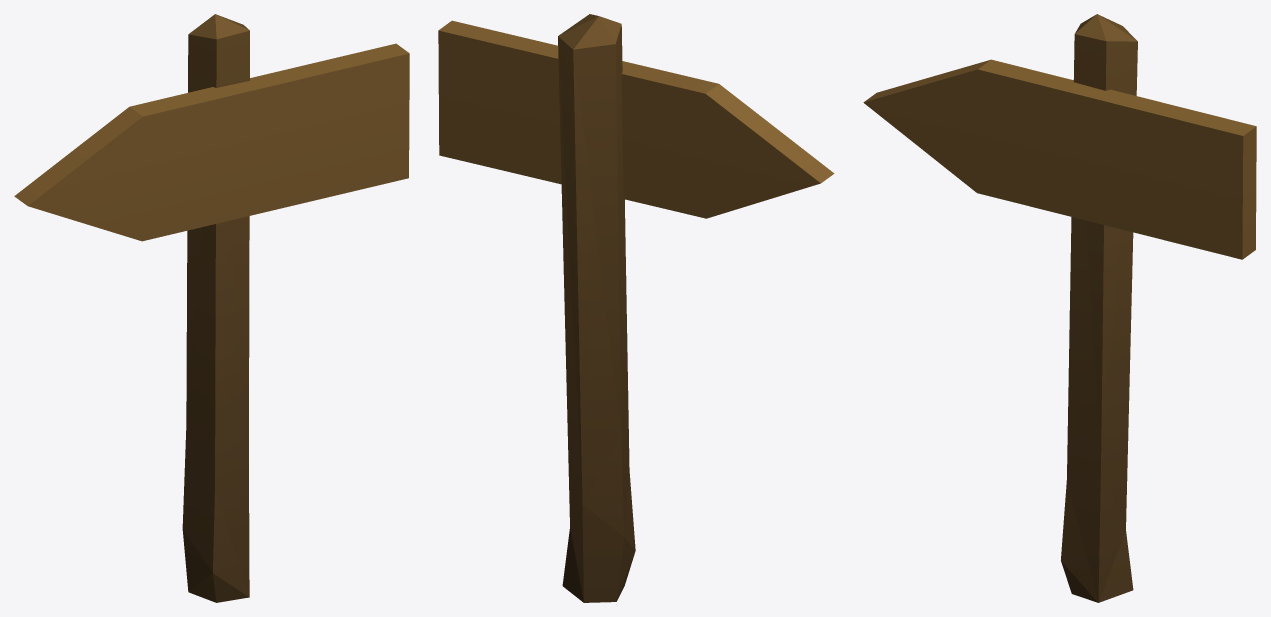
Rendered from Pointer_04.fbx.
3 renders of one model, left to right at view 1: azimuth 30°, elevation 25°; view 2: azimuth 150°, elevation 25°; view 3: azimuth 330°, elevation 25°, orthographic.
Parts seen in each view (by area): view 1: Pointer_04; view 2: Pointer_04; view 3: Pointer_04.
Boxes of the visible parts, x1=… form: Pointer_04: x1=14, y1=14, x2=409, y2=602; Pointer_04: x1=438, y1=14, x2=834, y2=602; Pointer_04: x1=863, y1=14, x2=1256, y2=602.
Size of the model in its own units: 1.07 by 1.54 by 0.1995.
